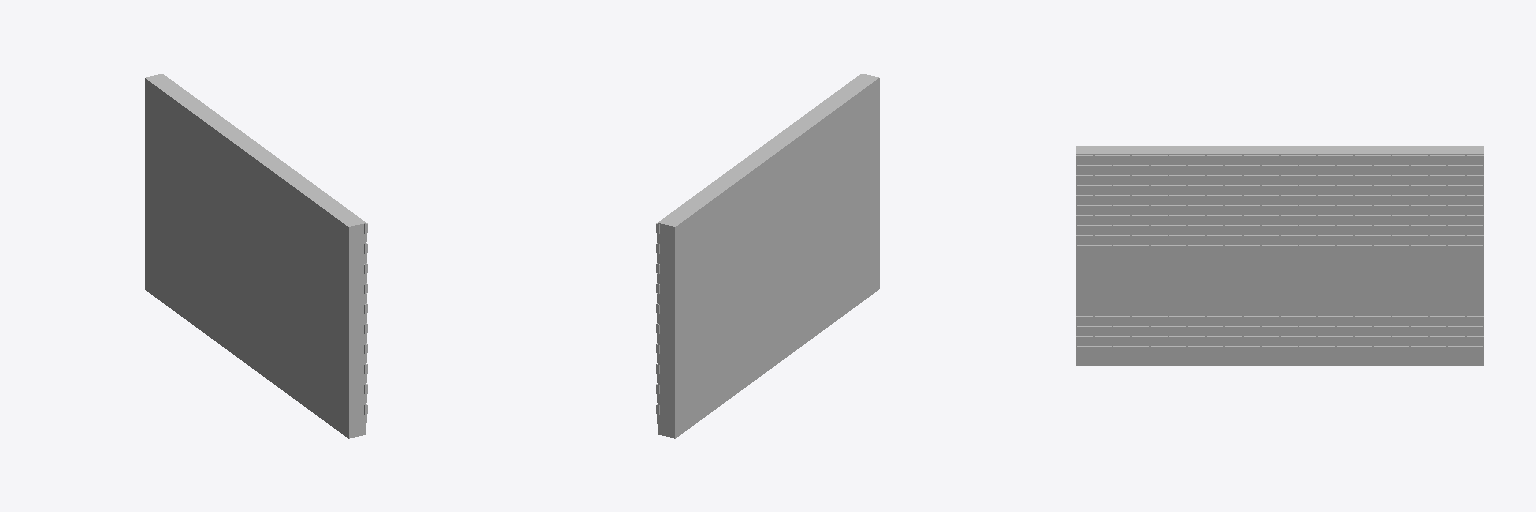
Rendered from wall.obj.
3 renders of one model, left to right at view 1: azimuth 30°, elevation 25°; view 2: azimuth 150°, elevation 25°; view 3: azimuth 270°, elevation 25°, orthographic.
Parts seen in each view (by area): view 1: VisualWall.002_Cube.048; view 2: VisualWall.002_Cube.048; view 3: VisualWall.002_Cube.048.
Part boxes in pixels (left/top/right/bottom): VisualWall.002_Cube.048: left=145, top=74, right=367, bottom=438; VisualWall.002_Cube.048: left=656, top=74, right=879, bottom=438; VisualWall.002_Cube.048: left=1076, top=146, right=1483, bottom=365.
Bounding box in the file's own units: 0.2793 × 3 × 5.25.